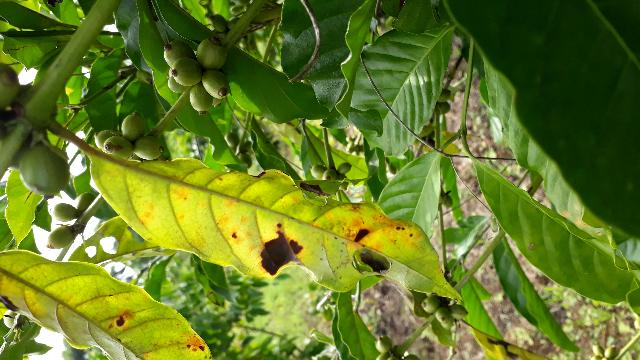rust_level_3: (86, 146, 468, 304)
